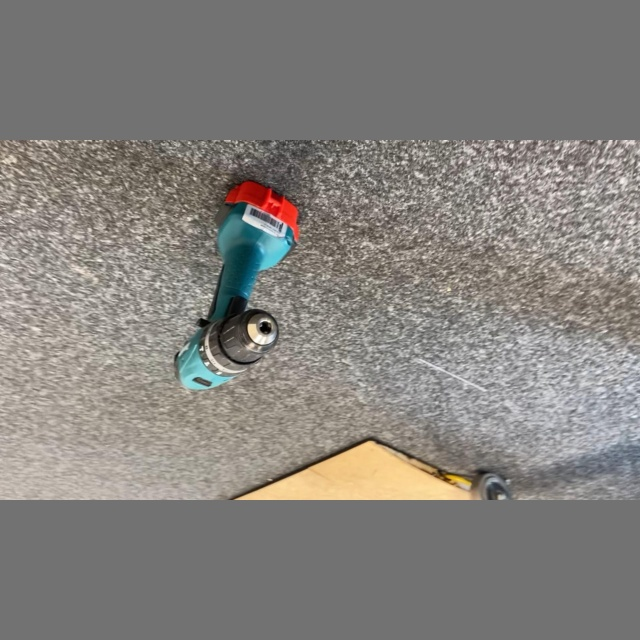drill: (169, 176, 305, 396)
